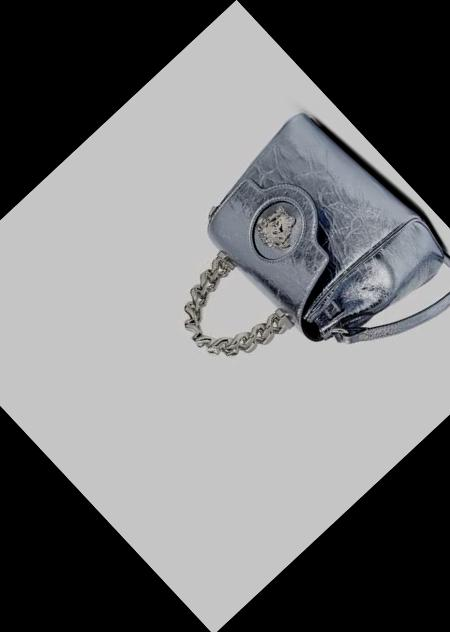VERSACE: (230, 182, 322, 272)
